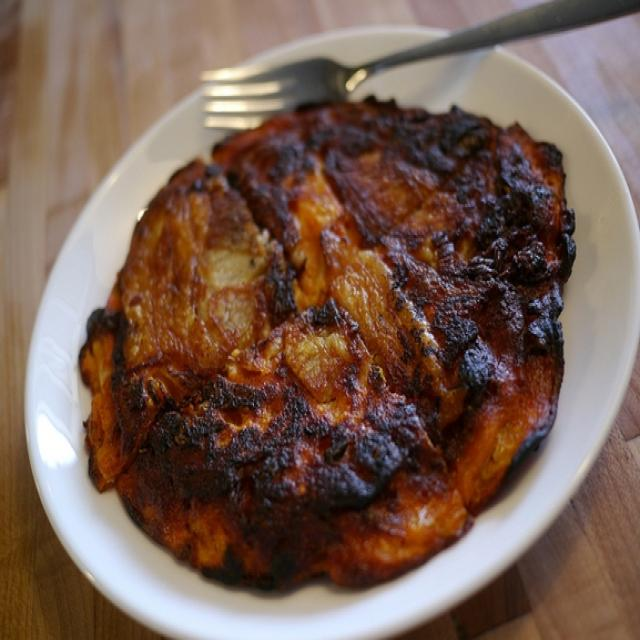牛肉菜式: (95, 41, 586, 575)
